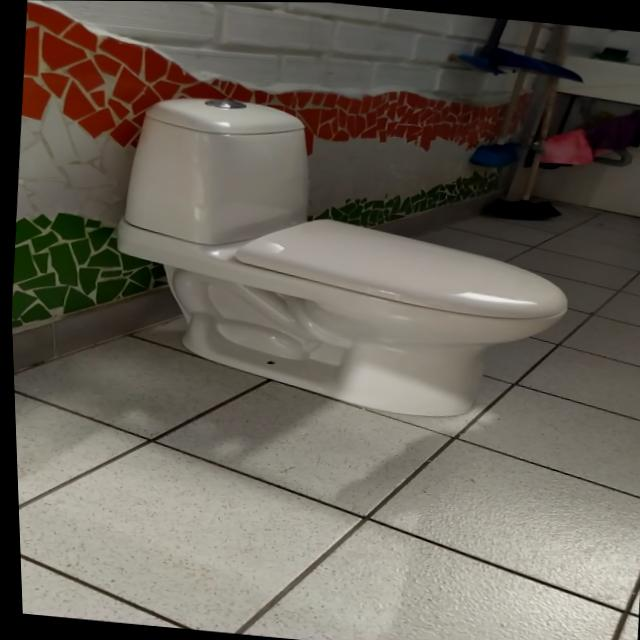toilet: (95, 88, 583, 429)
